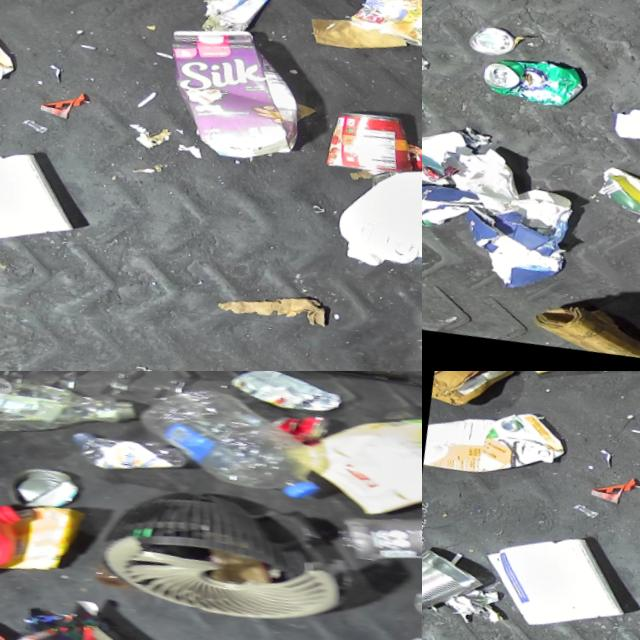can: (311, 110, 416, 191), (468, 50, 581, 118), (220, 371, 346, 428), (336, 0, 422, 63), (422, 542, 484, 625), (0, 460, 81, 520), (264, 411, 331, 452), (459, 22, 512, 62)
milk_jug: (315, 152, 422, 301)
non_white_jug: (142, 19, 316, 180), (422, 393, 570, 497), (0, 496, 24, 601)
plastic_bottle: (118, 372, 332, 518), (61, 424, 188, 490)
